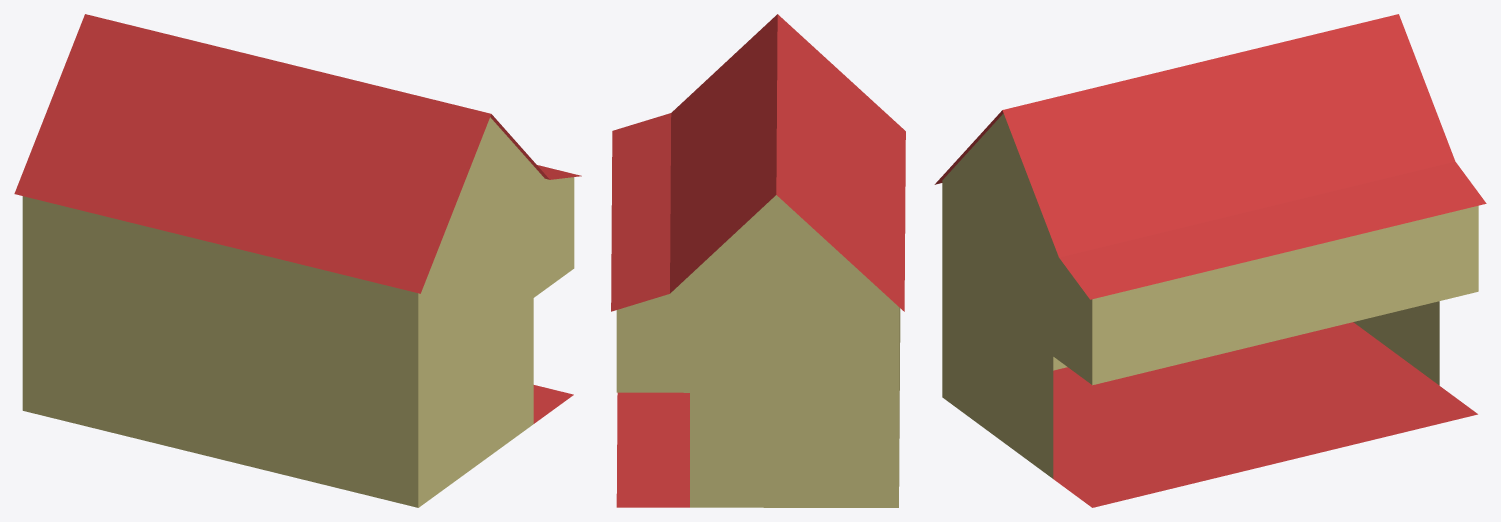
The picture shows the model from 3 angles, left to right: view 1: azimuth 30°, elevation 25°; view 2: azimuth 150°, elevation 25°; view 3: azimuth 270°, elevation 25°; orthographic projection. The views are drawn at different scales.
Size of the model in its own units: 20.81 by 23.03 by 15.49.
